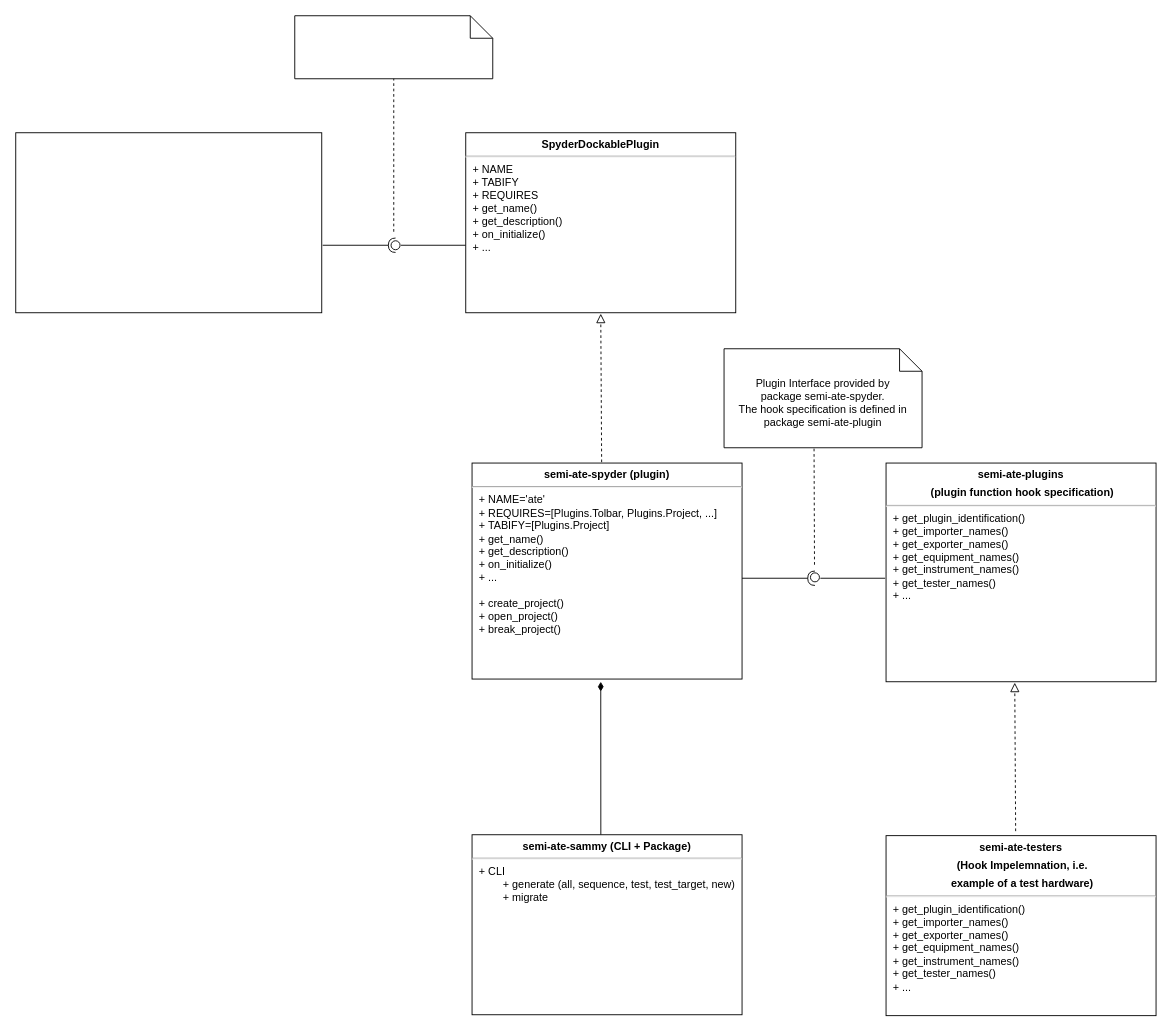
Image size: 1172x1031. Some labels were removed from this diagram. The centre of each missing label's shape, as x and y in pixels:
"Plugin Interface provided by Spyder" belongs at [393,47].
"Spyder (IDE application) + create new project" belongs at [168,222].
